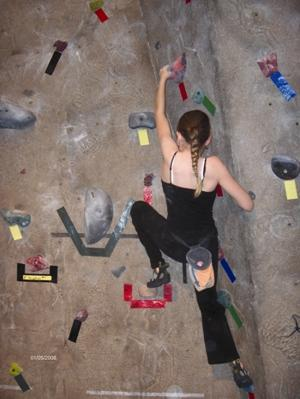person: (130, 64, 255, 392)
